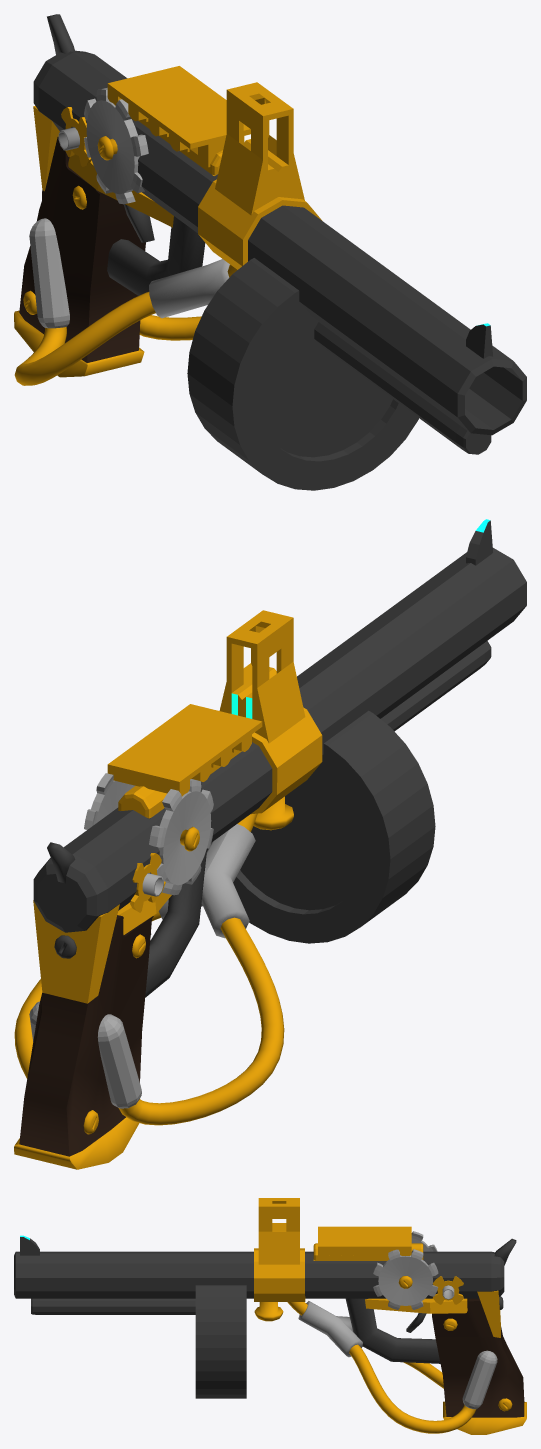
The model's file is SteamPunkGunUnited.fbx.
The picture shows the model from 3 angles, top to bottom: view 1: azimuth 30°, elevation 25°; view 2: azimuth 150°, elevation 25°; view 3: azimuth 270°, elevation 25°; orthographic projection. The views are drawn at different scales.
Visible parts, largest first — view 1: Canon, Magazine, HandGrip.001, AirSystem, BulletExit, Gear1, Gear2, Aim, Trigger.001; view 2: Canon, Magazine, HandGrip.001, AirSystem, BulletExit, Gear1, Gear2, Aim; view 3: Canon, HandGrip.001, Magazine, AirSystem, BulletExit, Gear1, Gear2, Aim.
Boxes of the visible parts, bbox=[...] form: Canon: bbox=[33, 14, 526, 454]; Magazine: bbox=[187, 258, 418, 490]; HandGrip.001: bbox=[14, 106, 205, 377]; AirSystem: bbox=[14, 218, 237, 385]; BulletExit: bbox=[107, 66, 250, 175]; Gear1: bbox=[84, 87, 148, 204]; Gear2: bbox=[58, 107, 91, 166]; Aim: bbox=[466, 323, 492, 358]; Trigger.001: bbox=[123, 204, 154, 242]; Canon: bbox=[33, 547, 526, 932]; Magazine: bbox=[207, 710, 435, 943]; HandGrip.001: bbox=[14, 848, 207, 1169]; AirSystem: bbox=[14, 813, 284, 1125]; BulletExit: bbox=[107, 704, 262, 818]; Gear1: bbox=[84, 773, 213, 895]; Gear2: bbox=[130, 853, 163, 912]; Aim: bbox=[466, 519, 492, 565]; Canon: bbox=[14, 1198, 516, 1321]; HandGrip.001: bbox=[345, 1290, 526, 1434]; Magazine: bbox=[195, 1285, 246, 1398]; AirSystem: bbox=[287, 1301, 497, 1433]; BulletExit: bbox=[313, 1226, 423, 1260]; Gear1: bbox=[373, 1231, 438, 1309]; Gear2: bbox=[433, 1276, 463, 1304]; Aim: bbox=[20, 1235, 39, 1255].
Size of the model in its own units: 12.64 by 19.03 by 39.55.
